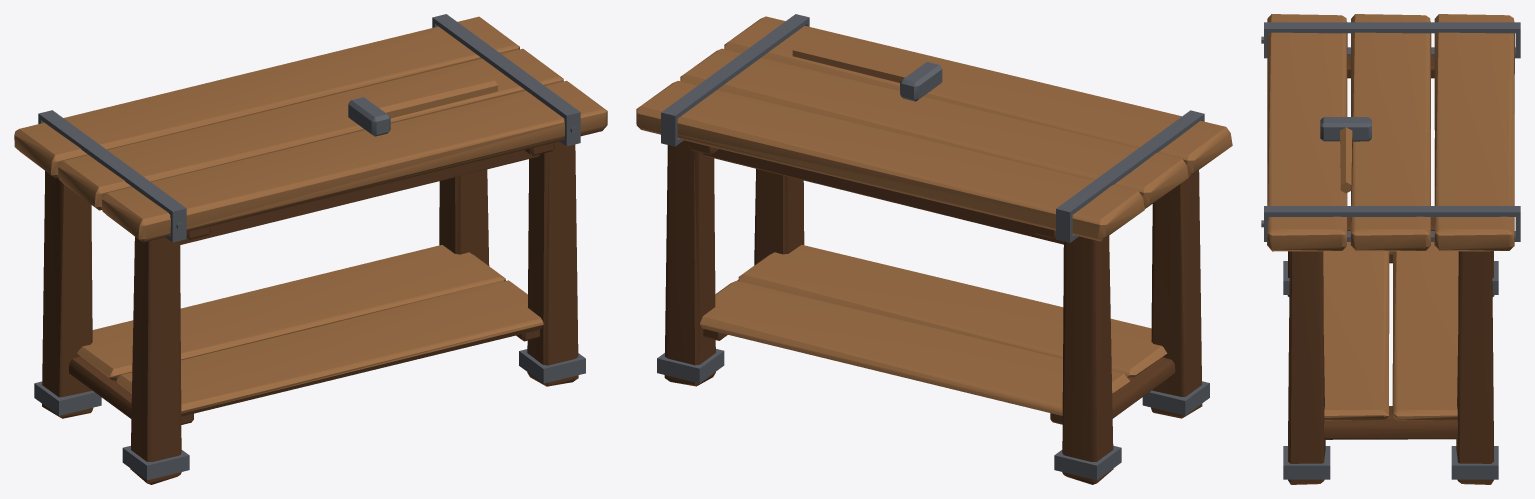
File: smith_workbench.glb
The picture shows the model from 3 angles, left to right: view 1: azimuth 30°, elevation 25°; view 2: azimuth 150°, elevation 25°; view 3: azimuth 270°, elevation 25°; orthographic projection. The views are drawn at different scales.
Visible parts, largest first — view 1: top_plank_2, shelf_plank_1, top_plank_0, shelf_plank_0, top_plank_1, frame_leg_front_left, frame_leg_front_right, frame_leg_back_left, frame_leg_back_right, frame_apron_front, strap_r_band, strap_l_band (+6 smaller); view 2: top_plank_0, shelf_plank_0, top_plank_1, shelf_plank_1, top_plank_2, frame_leg_back_left, frame_leg_back_right, frame_leg_front_left, frame_apron_back, frame_leg_front_right, strap_r_band, strap_l_band (+6 smaller); view 3: top_plank_0, top_plank_1, top_plank_2, shelf_plank_1, shelf_plank_0, frame_leg_front_right, frame_leg_back_right, strap_l_band, strap_r_band, frame_side_rail_right, hammer_head, frame_foot_band_front_right (+2 smaller).
Part boxes in pixels (left/top/right/bottom): top_plank_2: left=102, top=80, right=607, bottom=242; shelf_plank_1: left=116, top=280, right=543, bottom=416; top_plank_0: left=14, top=16, right=519, bottom=178; shelf_plank_0: left=77, top=245, right=505, bottom=380; top_plank_1: left=58, top=48, right=563, bottom=210; frame_leg_front_left: left=130, top=237, right=181, bottom=484; frame_leg_front_right: left=527, top=141, right=578, bottom=386; frame_leg_back_left: left=42, top=171, right=93, bottom=418; frame_leg_back_right: left=439, top=169, right=489, bottom=265; frame_apron_front: left=180, top=150, right=539, bottom=244; strap_r_band: left=432, top=14, right=580, bottom=146; strap_l_band: left=38, top=110, right=186, bottom=242; top_plank_0: left=636, top=80, right=1144, bottom=241; shelf_plank_0: left=700, top=280, right=1129, bottom=415; top_plank_1: left=680, top=48, right=1188, bottom=208; shelf_plank_1: left=738, top=244, right=1167, bottom=379; top_plank_2: left=724, top=16, right=1232, bottom=176; frame_leg_back_left: left=1062, top=236, right=1113, bottom=484; frame_leg_back_right: left=664, top=140, right=715, bottom=386; frame_leg_front_left: left=1151, top=170, right=1202, bottom=418; frame_apron_back: left=703, top=149, right=1063, bottom=244; frame_leg_front_right: left=754, top=169, right=804, bottom=265; strap_r_band: left=661, top=14, right=809, bottom=146; strap_l_band: left=1056, top=110, right=1204, bottom=242; top_plank_0: left=1434, top=14, right=1514, bottom=251; top_plank_1: left=1350, top=14, right=1431, bottom=251; top_plank_2: left=1267, top=14, right=1347, bottom=251; shelf_plank_1: left=1323, top=242, right=1389, bottom=420; shelf_plank_0: left=1392, top=242, right=1458, bottom=420; frame_leg_front_right: left=1288, top=251, right=1325, bottom=484; frame_leg_back_right: left=1456, top=251, right=1493, bottom=484; strap_l_band: left=1261, top=22, right=1520, bottom=58; strap_r_band: left=1261, top=206, right=1520, bottom=241; frame_side_rail_right: left=1324, top=419, right=1457, bottom=439; hammer_head: left=1320, top=117, right=1371, bottom=141; frame_foot_band_front_right: left=1283, top=446, right=1330, bottom=479.
Bounding box in the file's own units: 1.5 × 0.907 × 0.7512.
